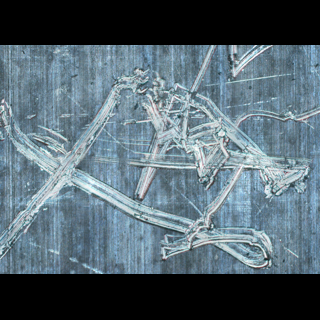d: (0, 75, 149, 246), (115, 66, 243, 196), (150, 207, 281, 270), (239, 148, 315, 203), (231, 105, 319, 140), (216, 45, 280, 87)
